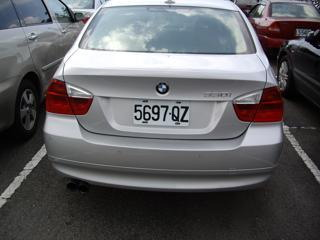plate: (131, 99, 190, 128)
